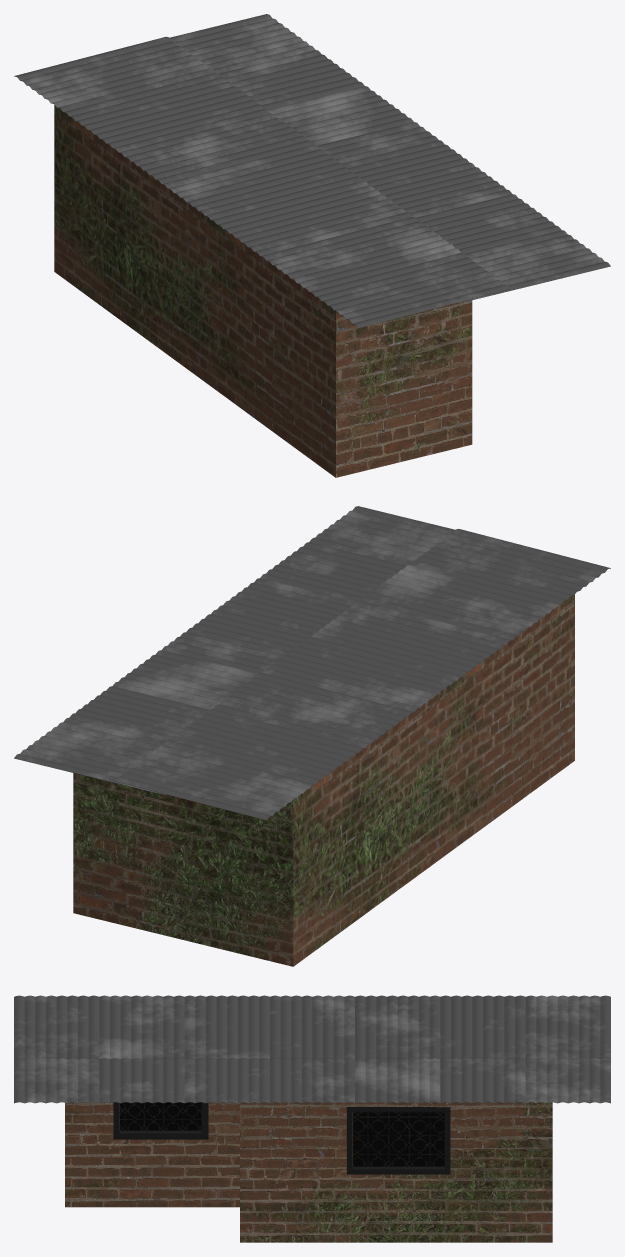
Rendered from Casa05.fbx.
The picture shows the model from 3 angles, top to bottom: view 1: azimuth 30°, elevation 25°; view 2: azimuth 150°, elevation 25°; view 3: azimuth 270°, elevation 25°; orthographic projection. The views are drawn at different scales.
Visible parts, largest first — view 1: Techo_1.004, Casa05; view 2: Techo_1.004, Casa05; view 3: Techo_1.004, Casa05.
Part boxes in pixels (<box>): Techo_1.004: <box>14,14,610,328</box>; Casa05: <box>54,105,472,477</box>; Techo_1.004: <box>14,506,610,820</box>; Casa05: <box>73,595,574,966</box>; Techo_1.004: <box>14,995,610,1103</box>; Casa05: <box>65,1102,552,1242</box>.
Bounding box in the file's own units: 2563 × 1713 × 6055.
